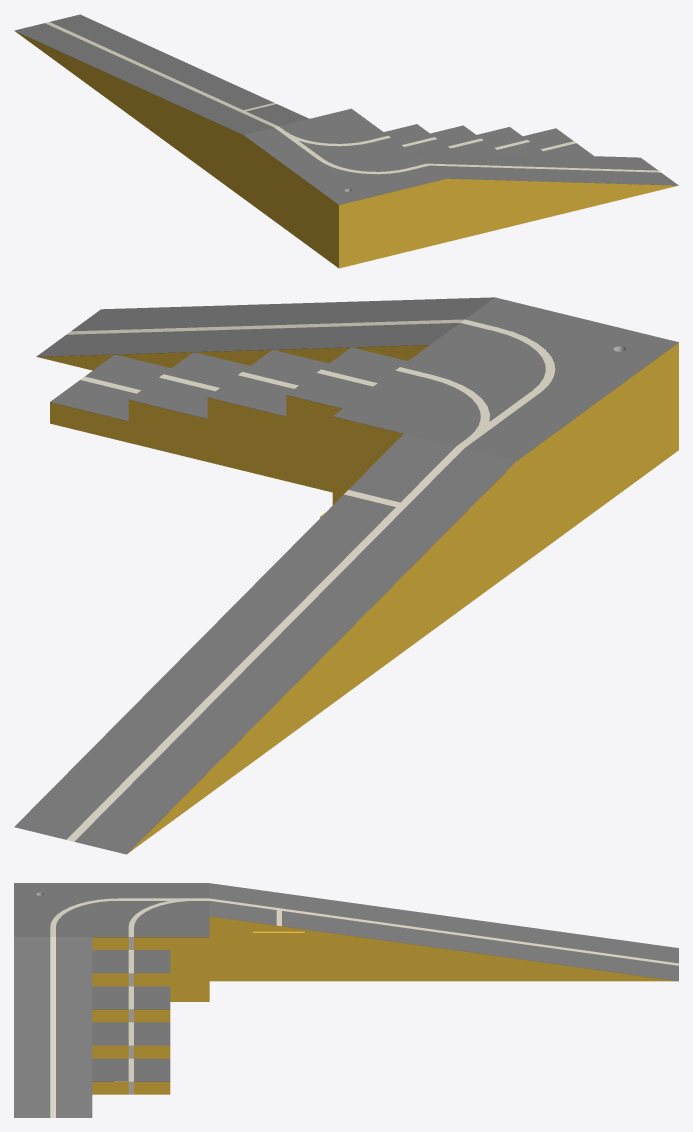
File: RampStairsSeesaw_RampStairs.dae
3 renders of one model, top to bottom at view 1: azimuth 30°, elevation 25°; view 2: azimuth 150°, elevation 25°; view 3: azimuth 270°, elevation 25°, orthographic. The views are drawn at different scales.
Parts seen in each view (by area): view 1: 6869365c90dc7d6d7dbca6fb (×10); view 2: 6869365c90dc7d6d7dbca6fb (×10); view 3: 6869365c90dc7d6d7dbca6fb (×10).
Boxes of the visible parts, x1,y1,x2,y2 form: 6869365c90dc7d6d7dbca6fb (×10): [14, 14, 678, 268]; 6869365c90dc7d6d7dbca6fb (×10): [14, 297, 678, 854]; 6869365c90dc7d6d7dbca6fb (×10): [14, 883, 678, 1117].
Bounding box in the file's own units: 3.08 × 5.1 × 0.55.
